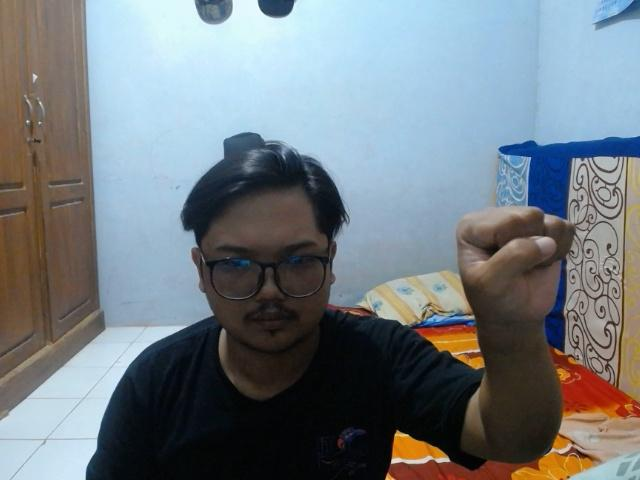Grab: (453, 201, 580, 334)
